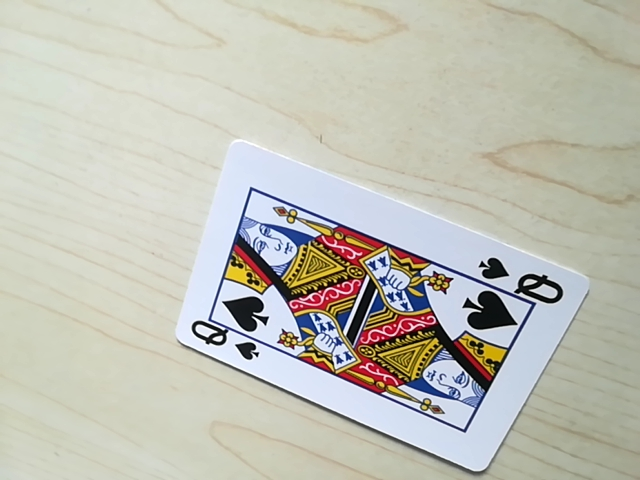ht q: (471, 258, 572, 302), (184, 318, 263, 362)
